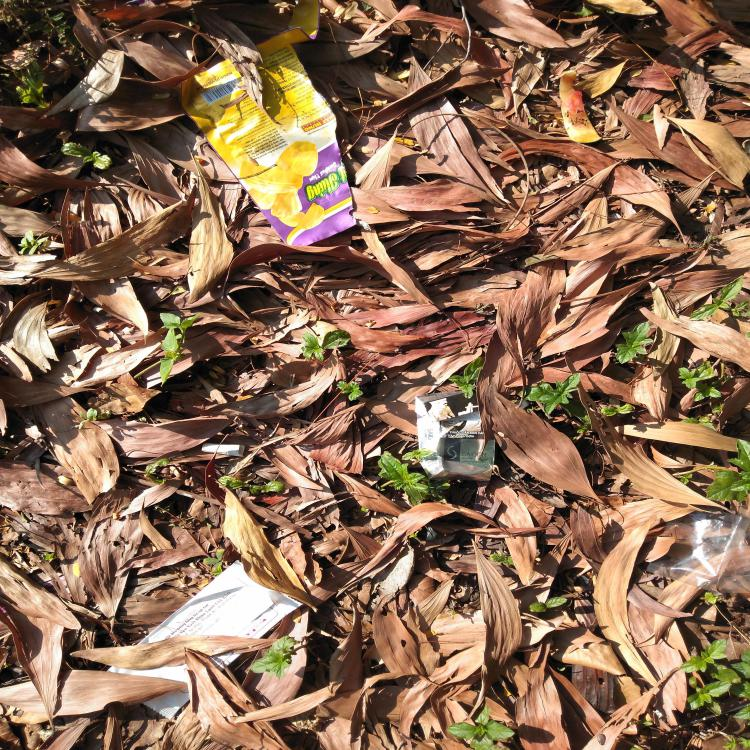Other carton: (414, 389, 496, 481), (202, 443, 245, 457)
Other plastic: (181, 0, 372, 246), (106, 560, 303, 720)
Plastic film: (646, 504, 749, 593)
